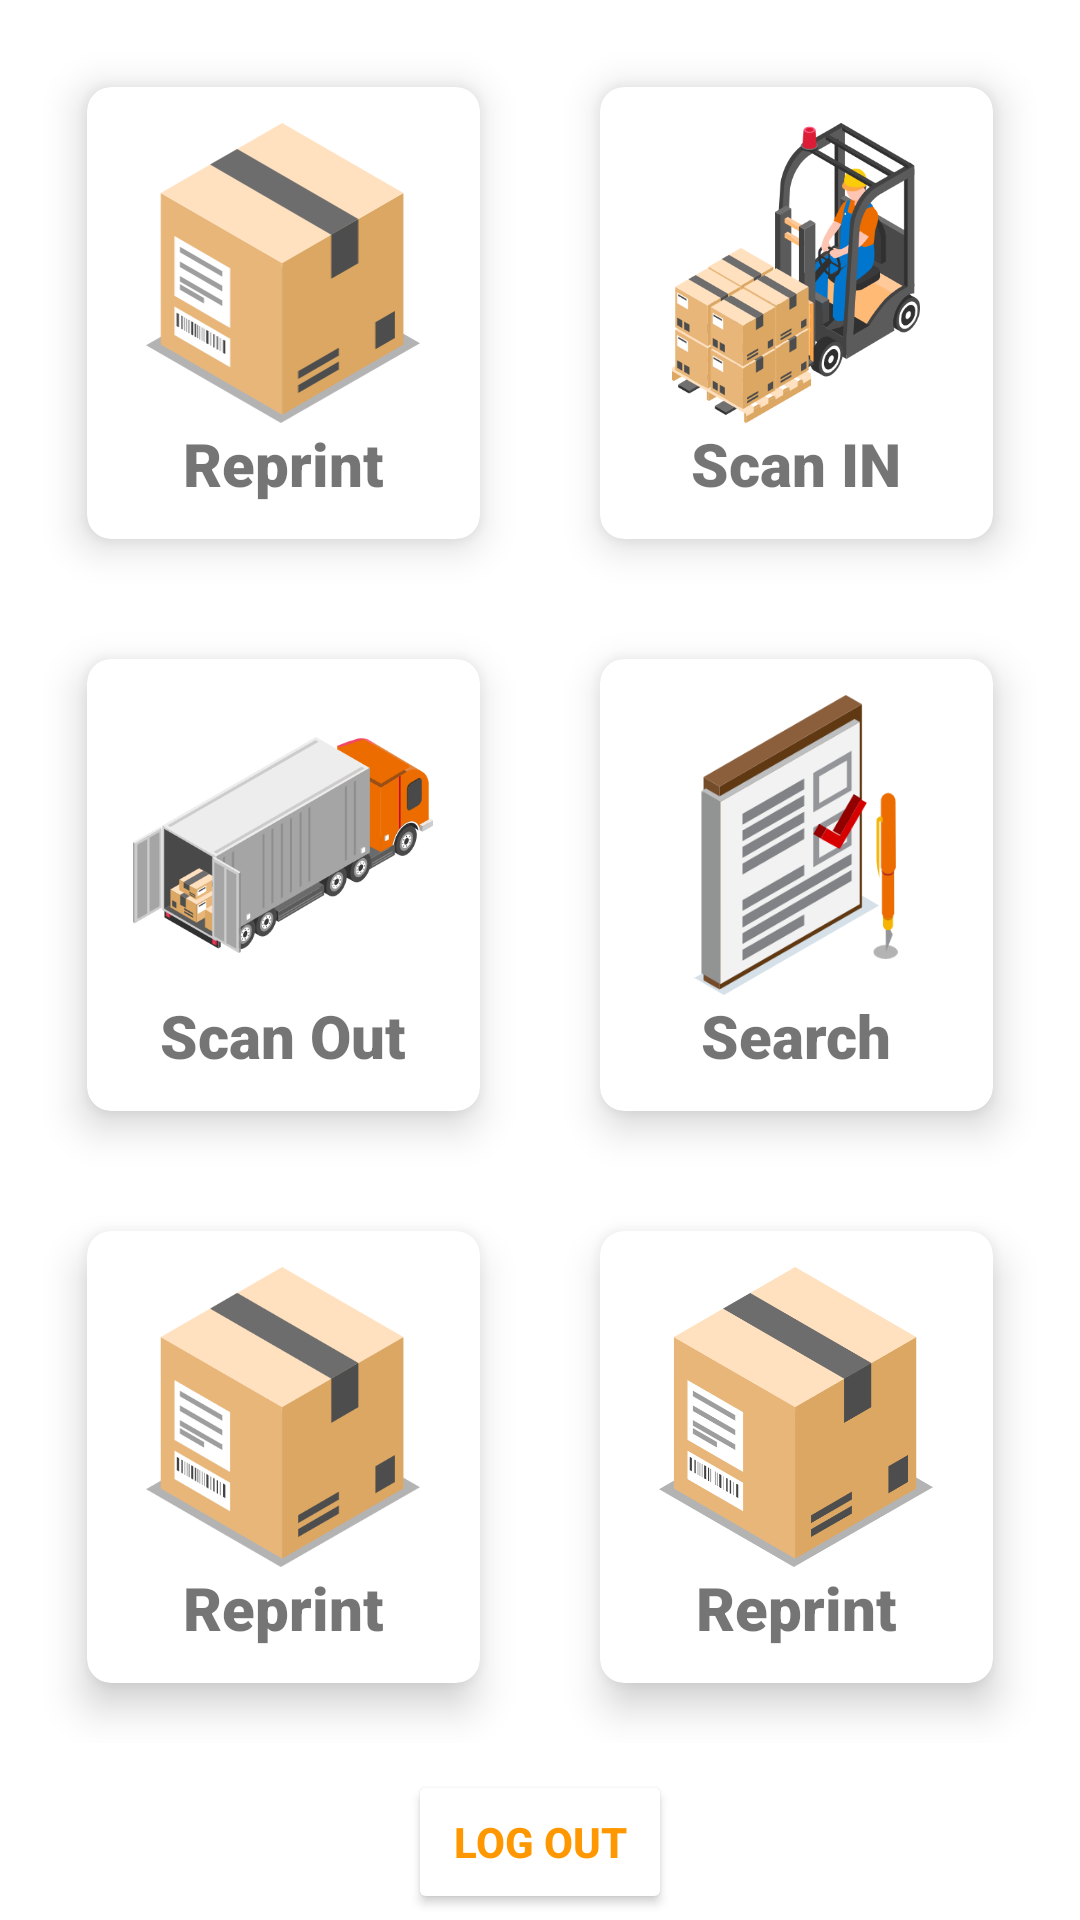

Screen size 1080*1920. Icon name, then its box in pixels as (x1, y1, x2, y2):
label: (146, 123, 420, 423), (146, 1267, 420, 1567), (659, 1267, 933, 1567)
